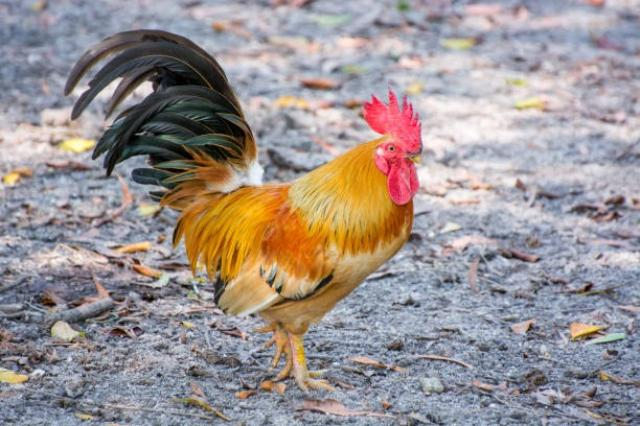Chicken: (64, 29, 422, 398)
